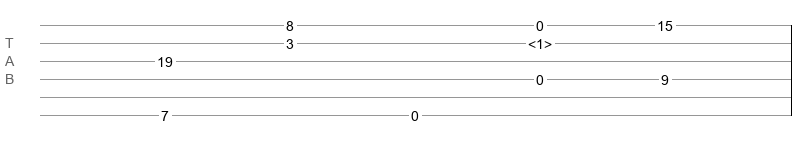0: (411, 108, 419, 118), (536, 18, 544, 28), (536, 72, 544, 82)
15: (657, 18, 673, 28)
19: (157, 54, 173, 64)
3: (286, 36, 294, 46)
7: (161, 108, 169, 118)
8: (286, 18, 294, 28)
9: (661, 72, 669, 82)
harmonic: (528, 36, 552, 46)
